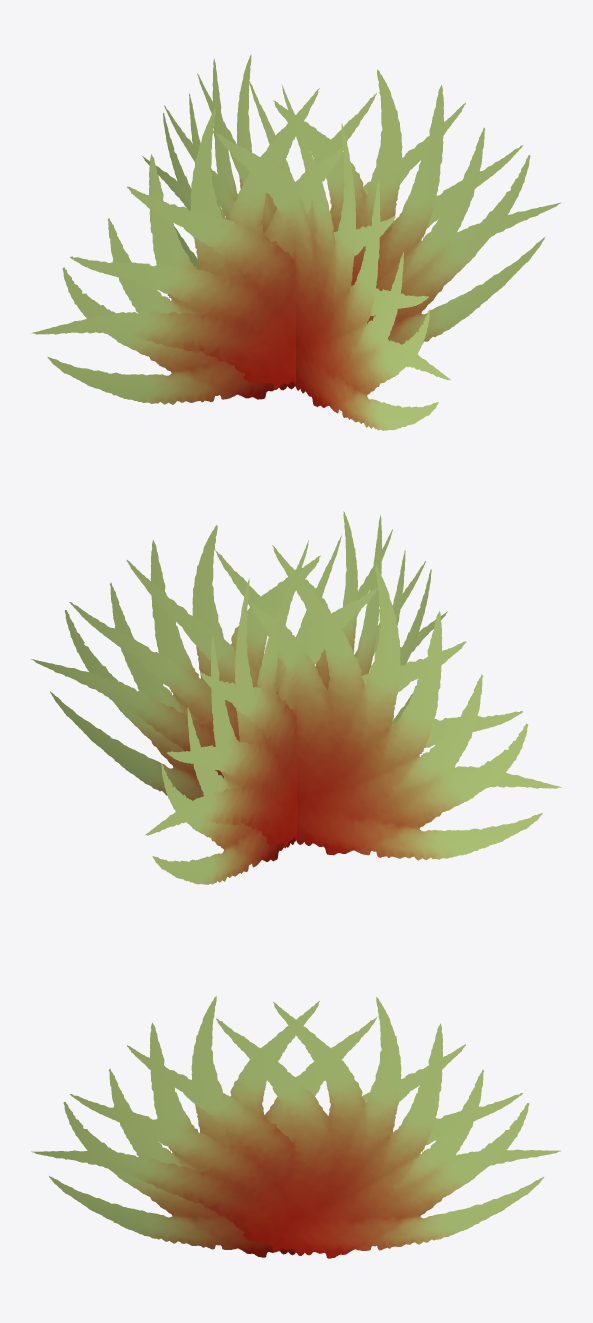
The model's file is painted-weed-072.glb.
The picture shows the model from 3 angles, top to bottom: view 1: azimuth 30°, elevation 25°; view 2: azimuth 150°, elevation 25°; view 3: azimuth 270°, elevation 25°; orthographic projection. The views are drawn at different scales.
Bounding box in the file's own units: 10.43 × 5.93 × 10.43.
1 material, 1 textured.
